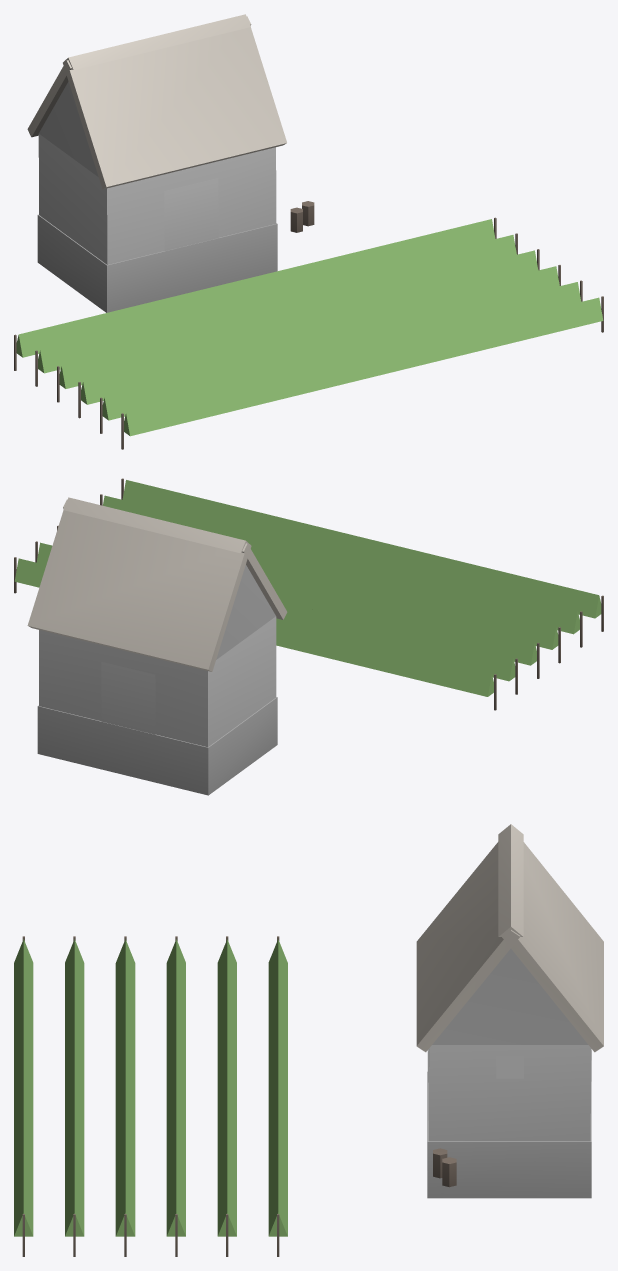
File: vineyard_1.glb
3 renders of one model, top to bottom at view 1: azimuth 30°, elevation 25°; view 2: azimuth 150°, elevation 25°; view 3: azimuth 270°, elevation 25°, orthographic. The views are drawn at different scales.
Parts seen in each view (by area): view 1: vineyard_1; view 2: vineyard_1; view 3: vineyard_1.
Part boxes in pixels (x1=…): vineyard_1: x1=14, y1=14, x2=603, y2=449; vineyard_1: x1=14, y1=478, x2=603, y2=795; vineyard_1: x1=14, y1=824, x2=603, y2=1256.
Bounding box in the file's own units: 28.5 × 13.05 × 25.5.
